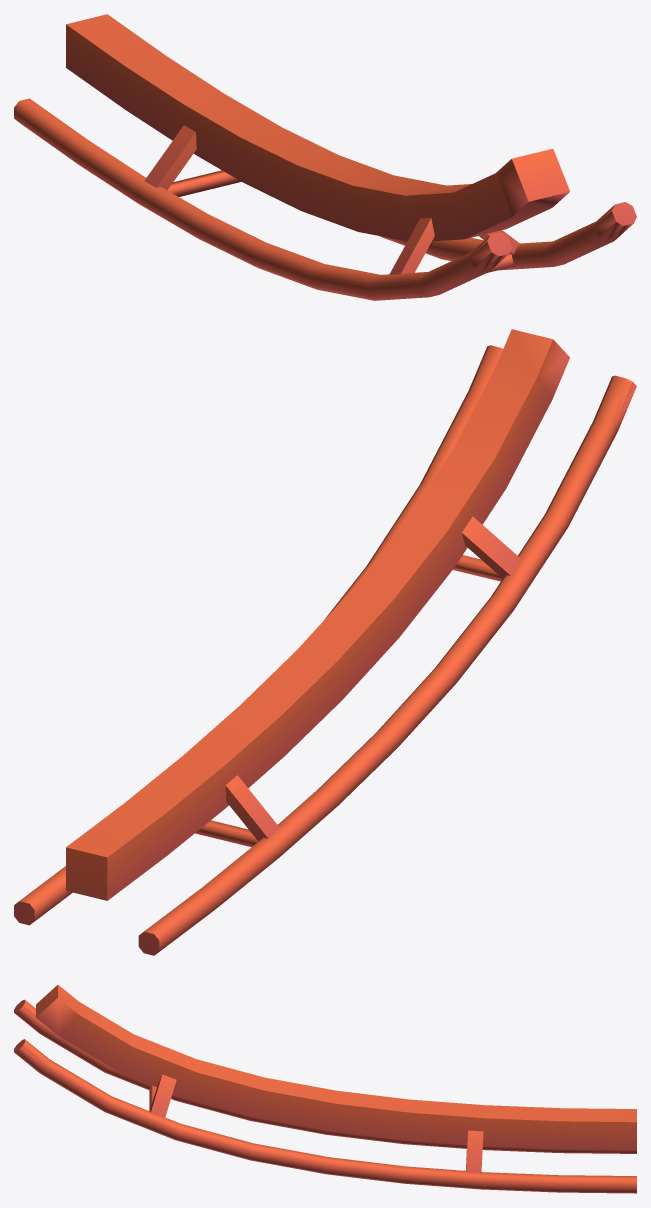
Rendered from coaster-hanging-straight-hill-beginning.glb.
3 renders of one model, top to bottom at view 1: azimuth 30°, elevation 25°; view 2: azimuth 150°, elevation 25°; view 3: azimuth 270°, elevation 25°, orthographic. The views are drawn at different scales.
Parts seen in each view (by area): view 1: coaster-hanging-straight-hill-beginning; view 2: coaster-hanging-straight-hill-beginning; view 3: coaster-hanging-straight-hill-beginning.
Boxes of the visible parts, x1,y1,x2,y2 form: coaster-hanging-straight-hill-beginning: (14, 14, 636, 300); coaster-hanging-straight-hill-beginning: (14, 329, 636, 955); coaster-hanging-straight-hill-beginning: (14, 985, 636, 1193).
Bounding box in the file's own units: 2.1 × 3.85 × 12.
1 material, 1 textured.
